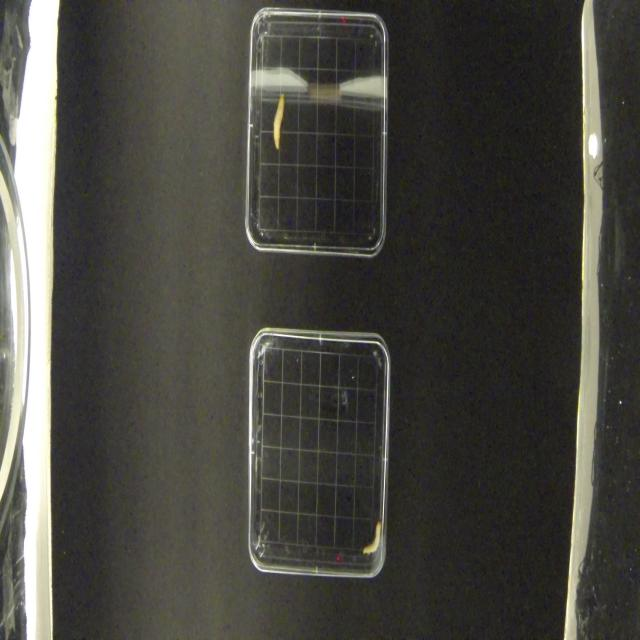larva: (270, 92, 290, 151), (360, 520, 383, 555)
